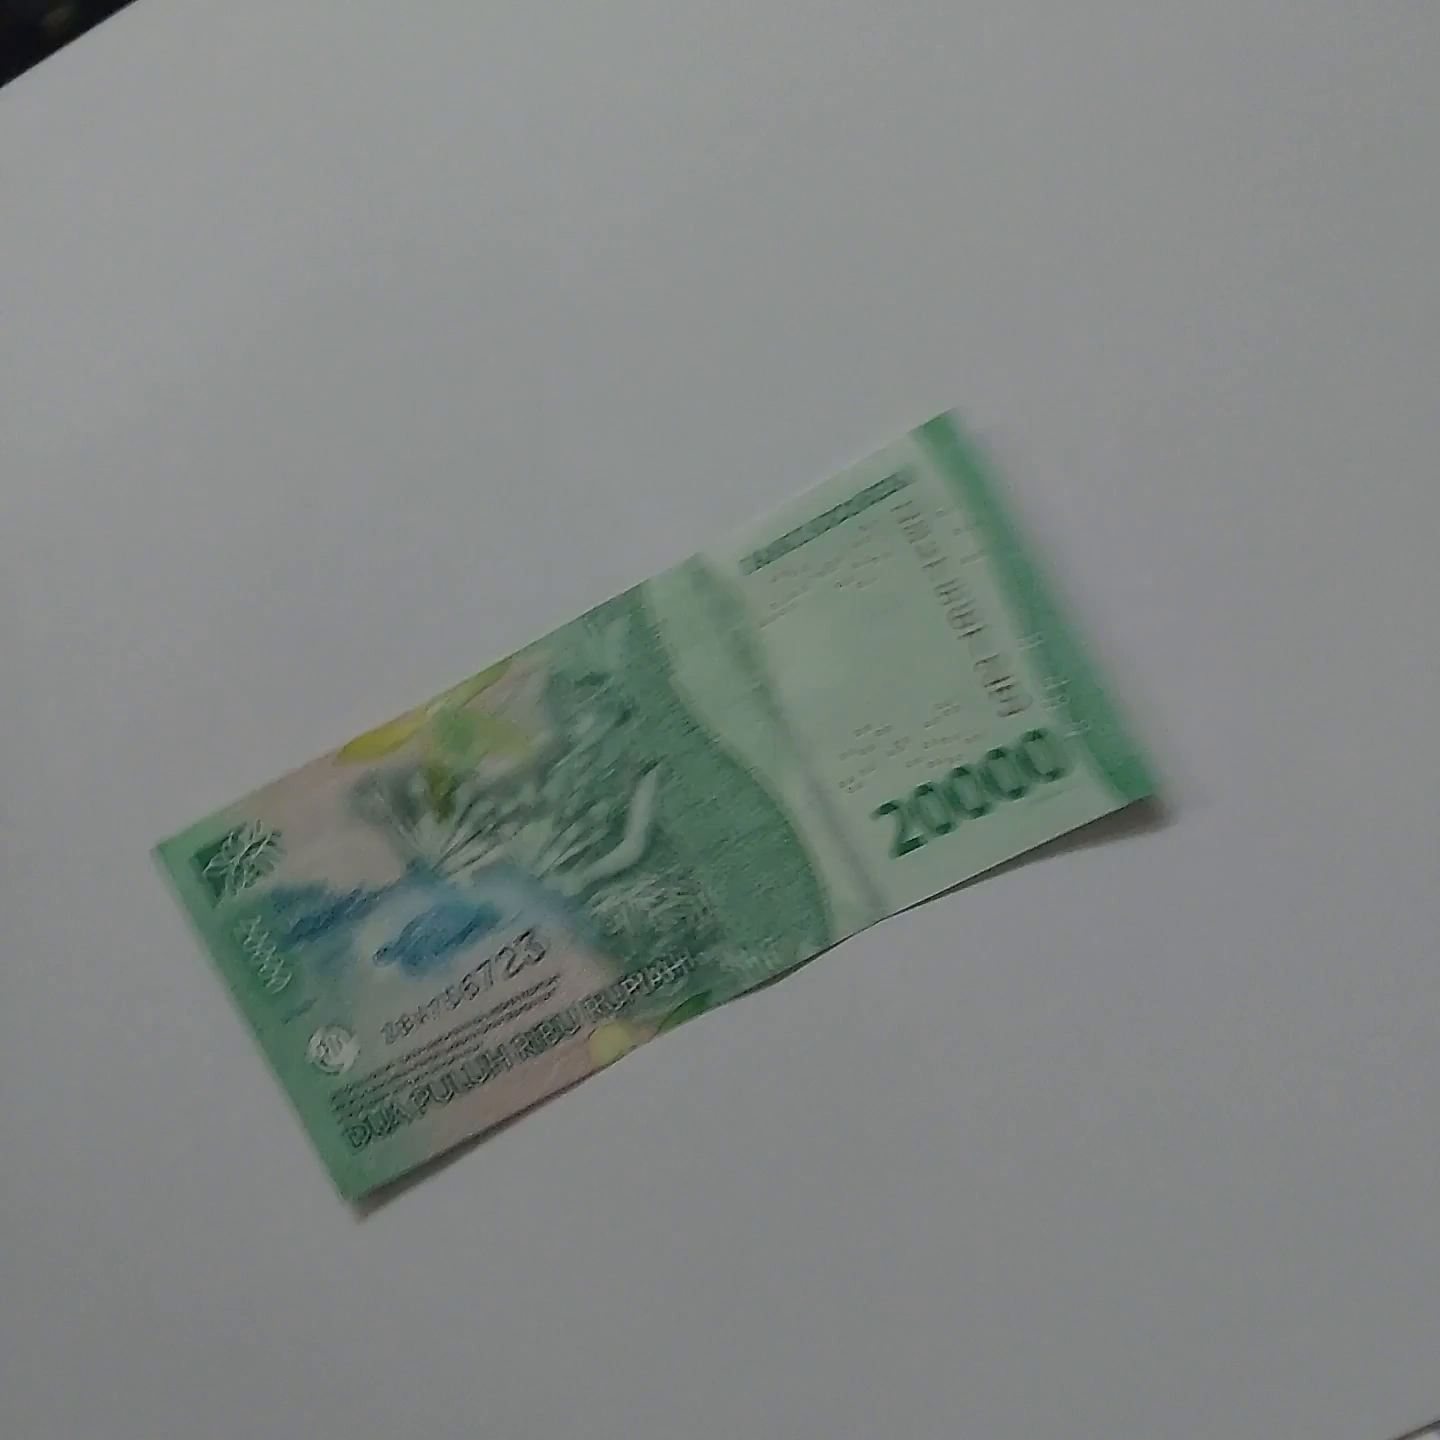20k: (80, 816, 1164, 1280)
